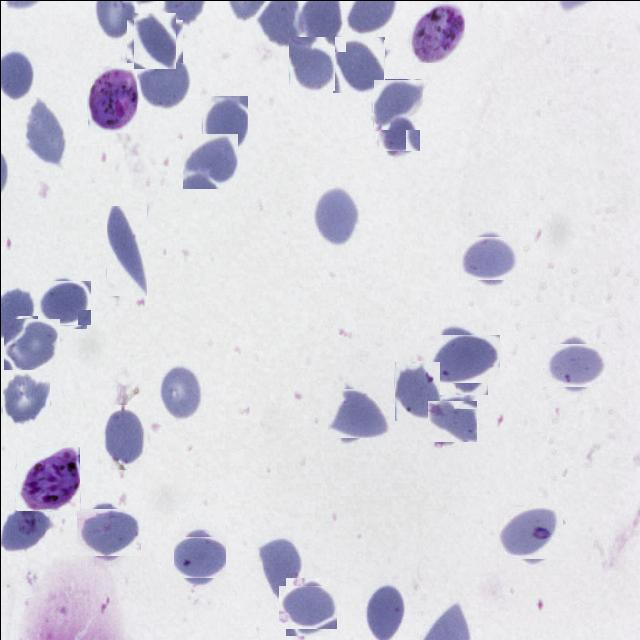difficult: (408, 0, 464, 62)
gametocyte: (86, 64, 138, 132)
red blood cell: (432, 327, 493, 388), (106, 205, 146, 295), (498, 503, 558, 562), (80, 504, 136, 560), (181, 132, 237, 188), (136, 52, 190, 110), (331, 384, 386, 440), (24, 96, 66, 169), (546, 338, 600, 392), (4, 316, 58, 370), (332, 36, 384, 92), (312, 184, 358, 247), (393, 360, 439, 420), (102, 404, 144, 469), (156, 361, 202, 420), (462, 232, 514, 284), (201, 94, 247, 152), (282, 580, 332, 632), (372, 78, 422, 129), (2, 370, 49, 424), (258, 538, 300, 598), (288, 36, 334, 90), (39, 277, 88, 326), (130, 16, 178, 65), (175, 533, 222, 580), (364, 584, 404, 639), (428, 398, 474, 444), (380, 117, 417, 153)
schizont: (15, 446, 80, 510)
